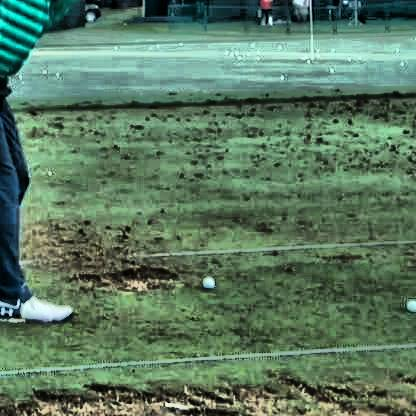golfball: (201, 277, 212, 284)
